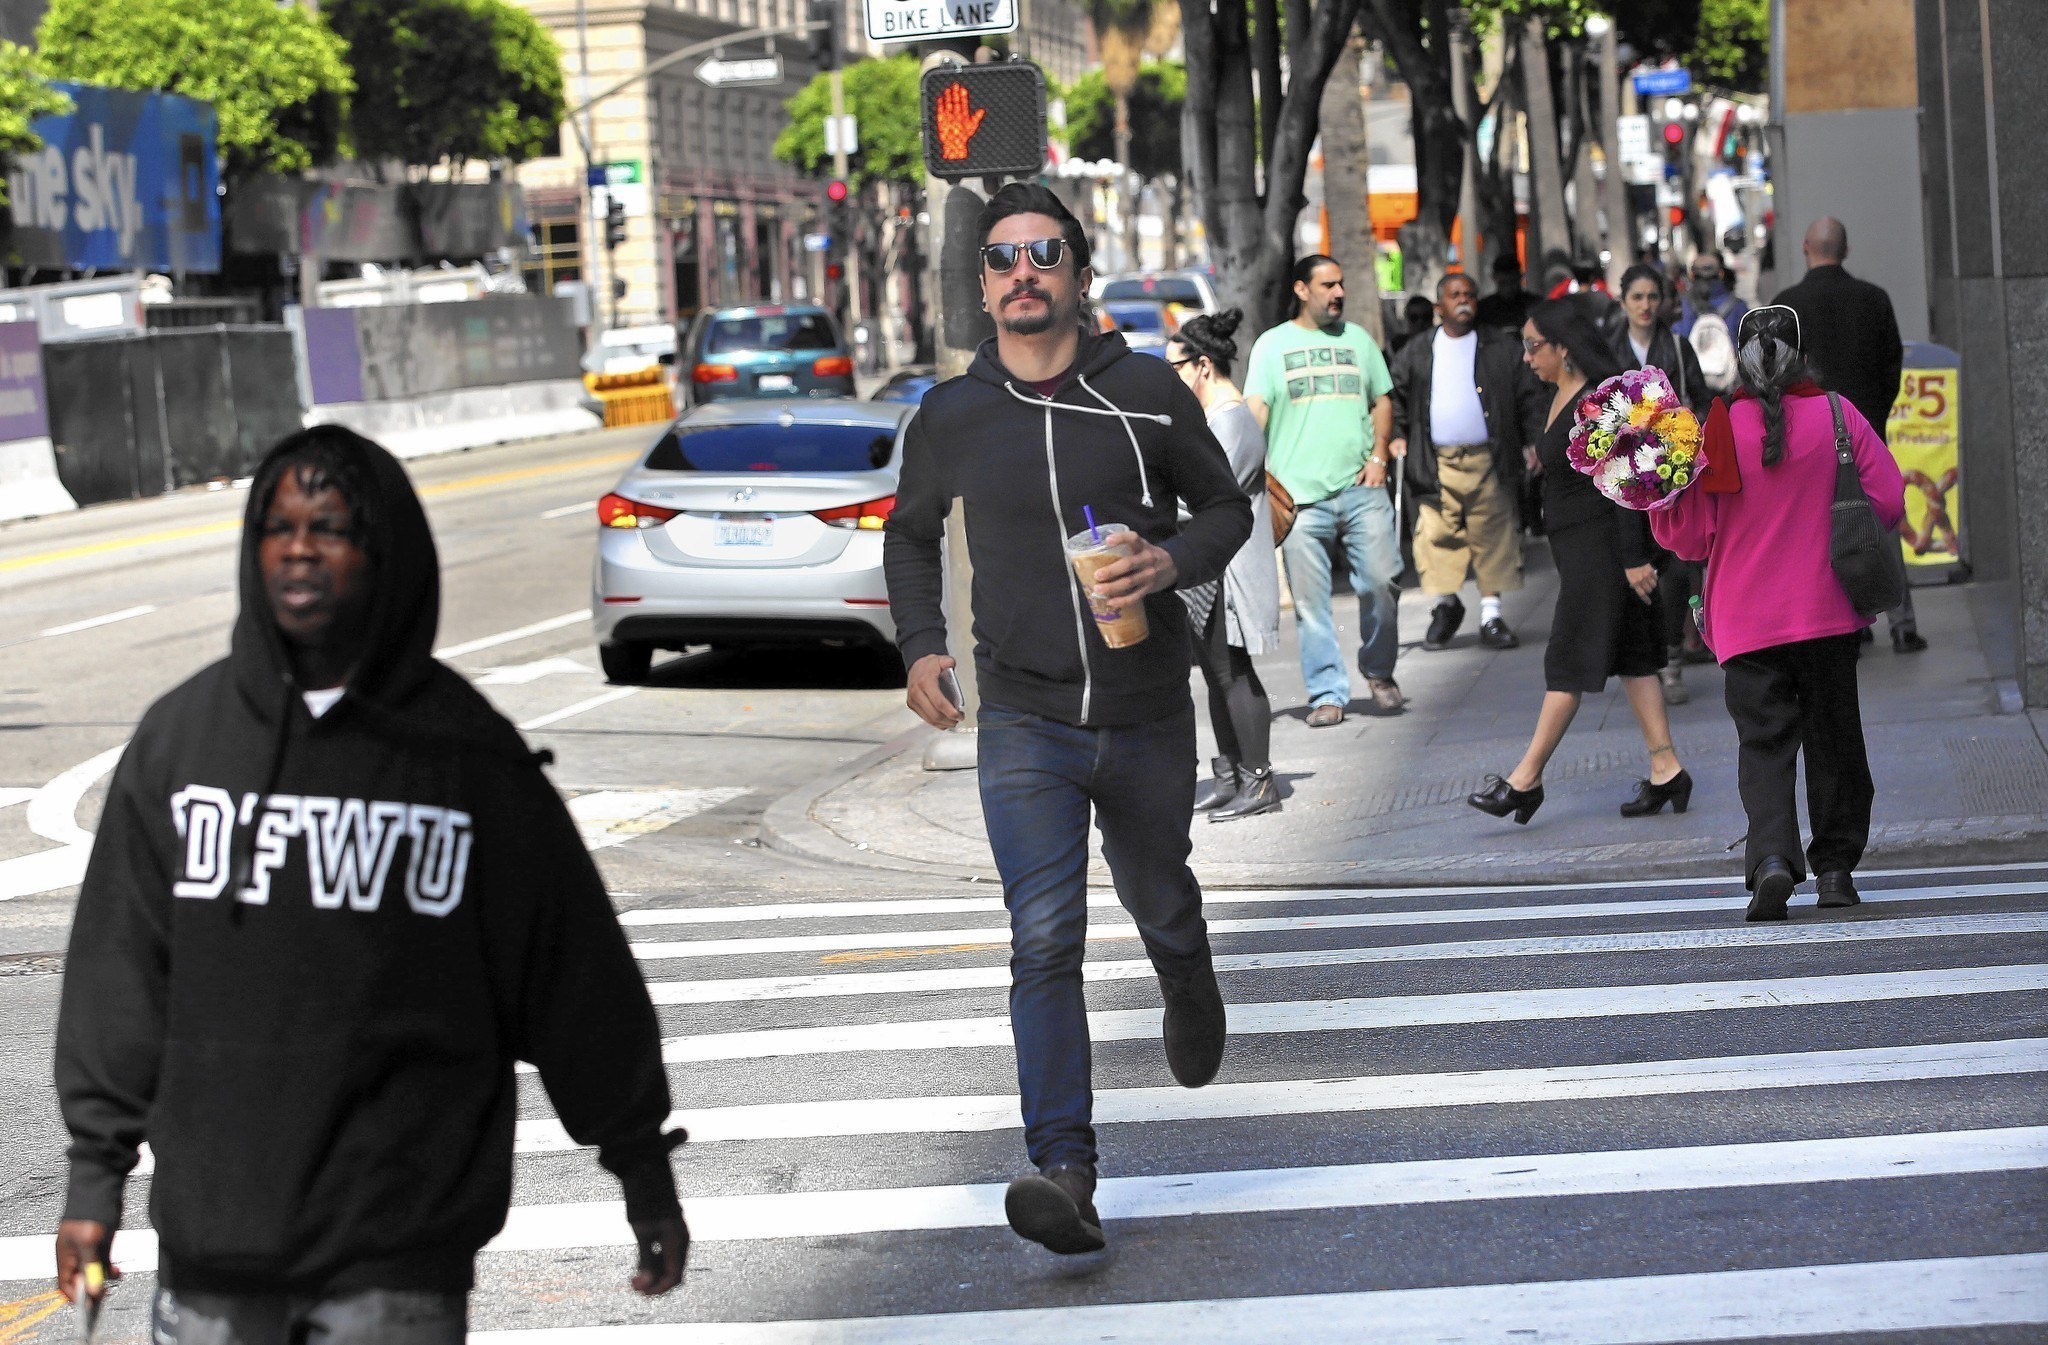pedestrian: (881, 175, 1290, 1303), (1666, 290, 1913, 926), (1473, 303, 1698, 833), (1241, 256, 1415, 724)
